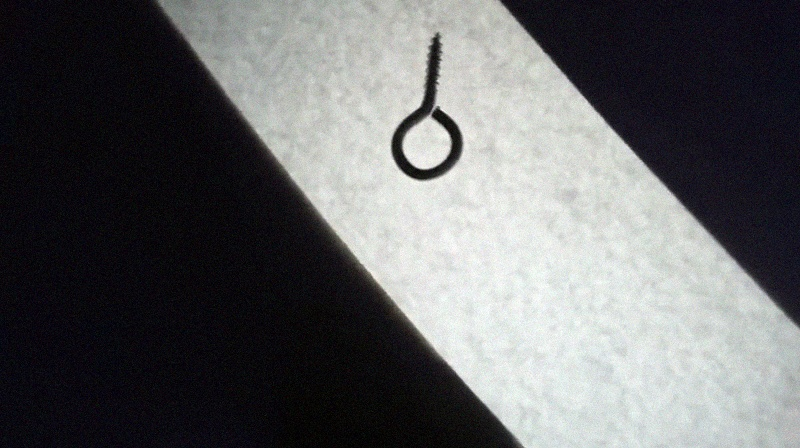O001: (387, 30, 469, 183)
